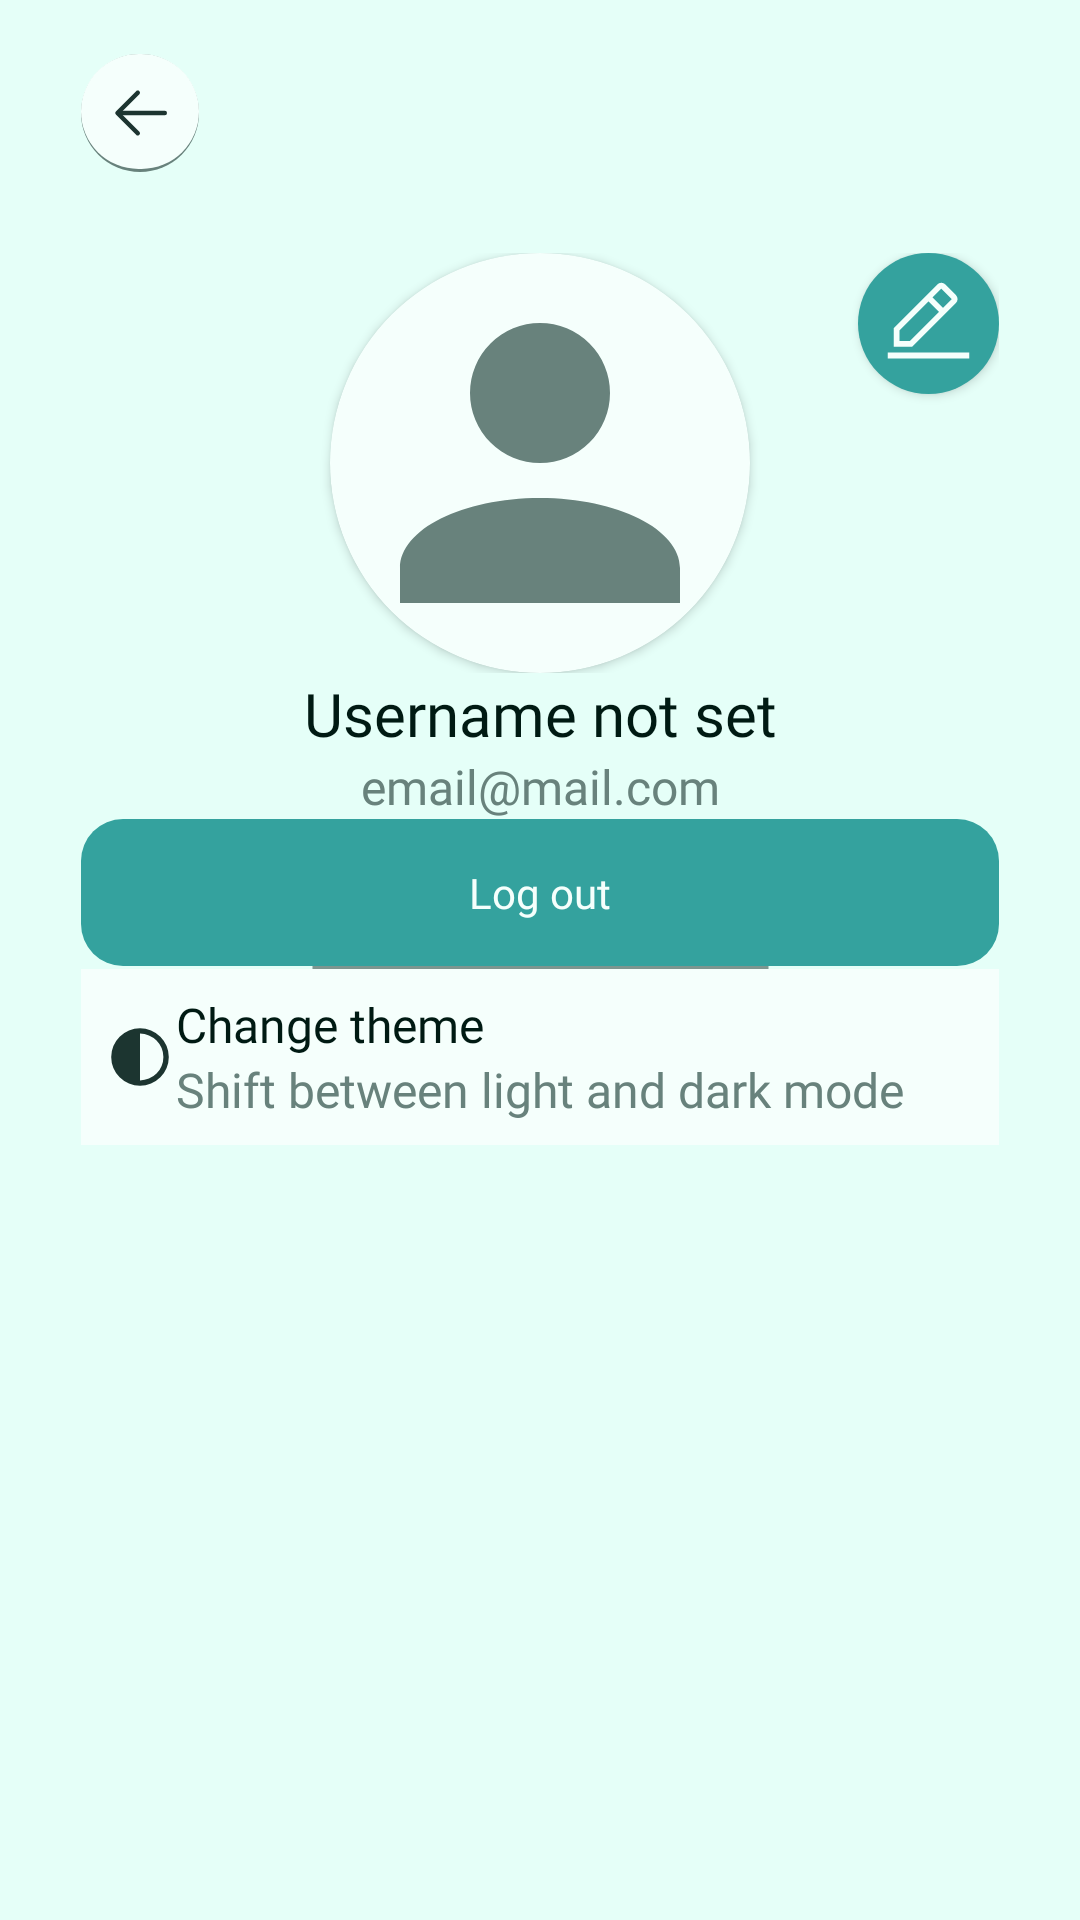

Screen size 1080w x 1920h. Icon name, then its center in pixels as point (x, y):
back: point (141, 113)
edit: point (928, 320)
